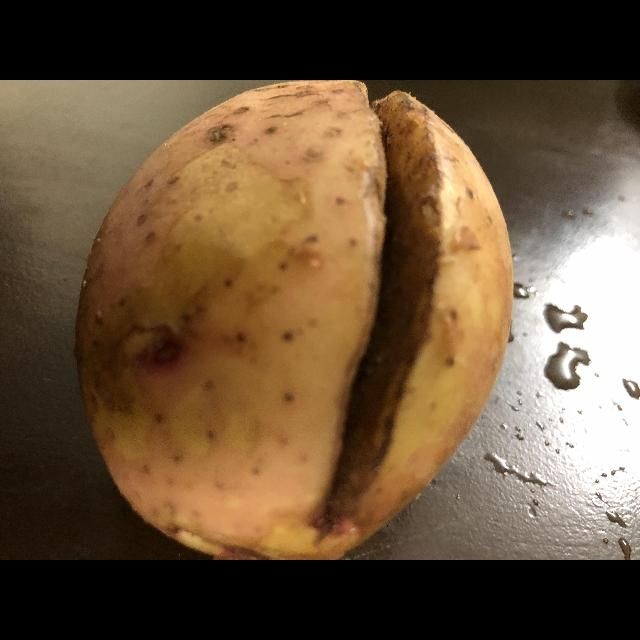Damaged potato: (82, 80, 514, 556)
